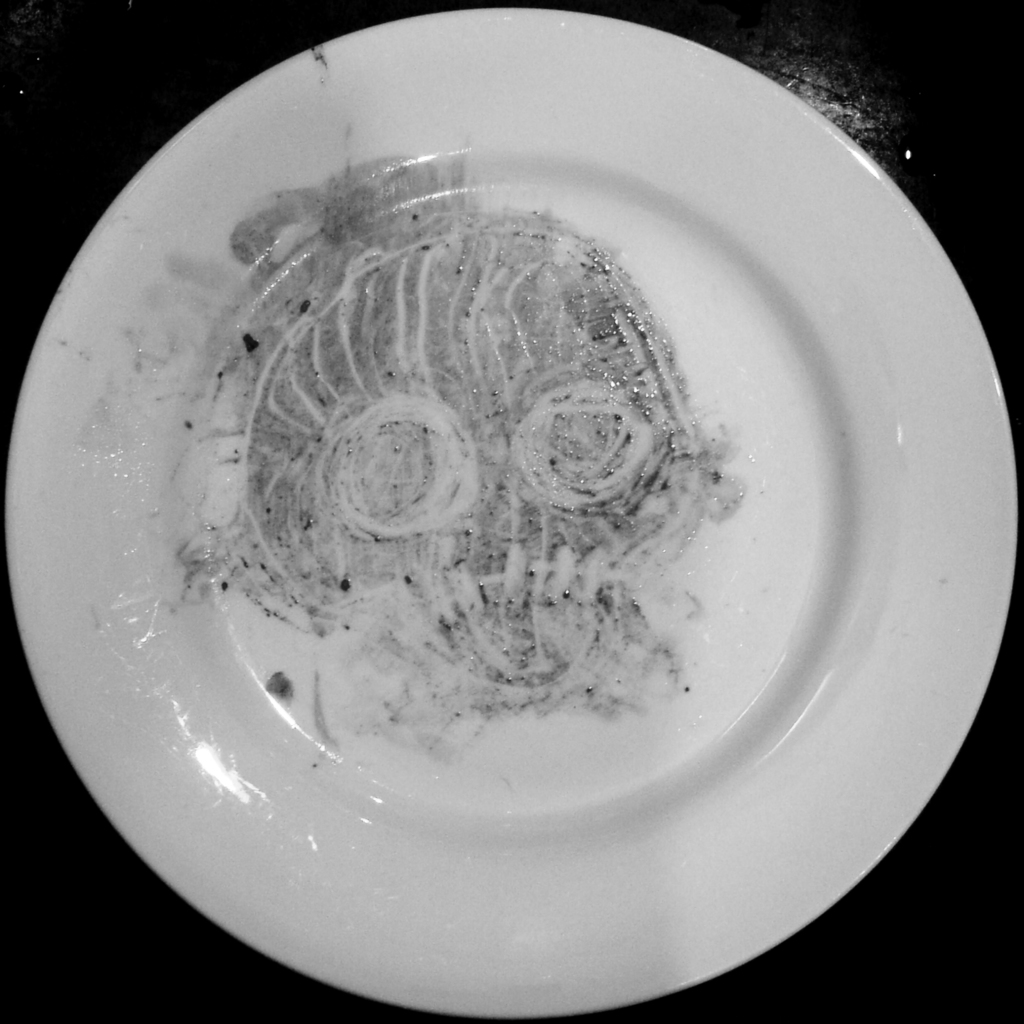plate: (4, 7, 1018, 1022)
